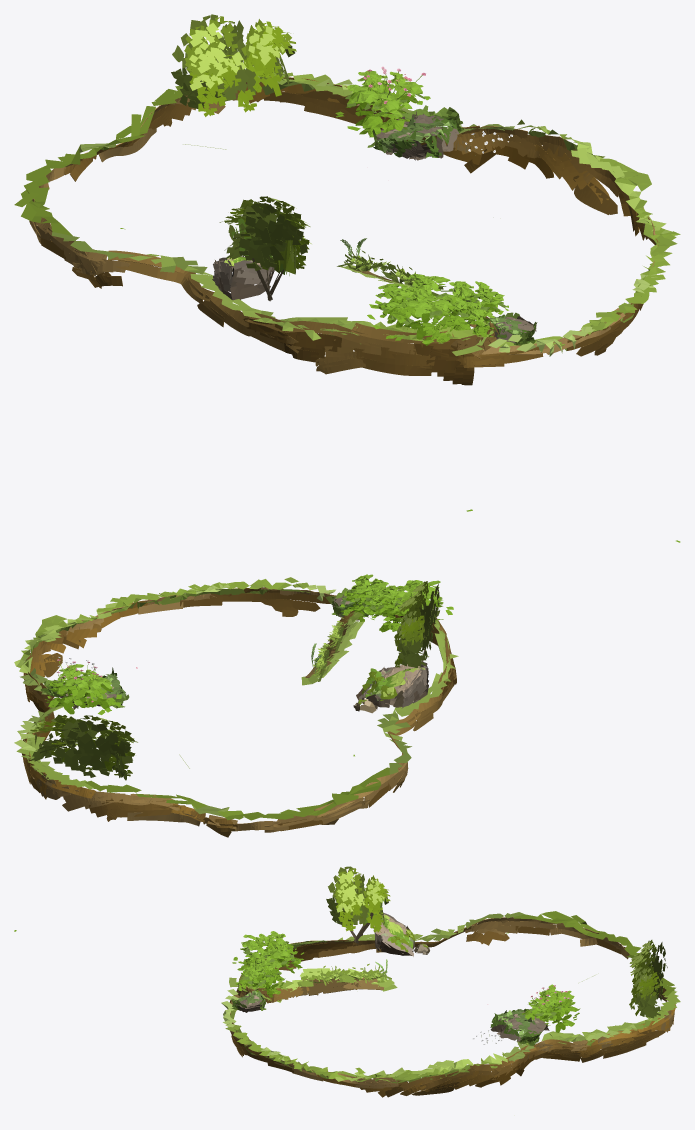
The model's file is Things_for_world.fbx.
The picture shows the model from 3 angles, top to bottom: view 1: azimuth 30°, elevation 25°; view 2: azimuth 150°, elevation 25°; view 3: azimuth 270°, elevation 25°; orthographic projection. The views are drawn at different scales.
Visible parts, largest first — view 1: earth, grass trim, bush 4, mini tree, Bush 1, Bush 2, Rock 5, Bush 3, Pointy rock., small rock, Mini tree.; view 2: earth, grass trim, bush 4, Pointy rock., mini tree, Bush 2, Bush 1, Bush 3, Rock 5; view 3: earth, grass trim, mini tree, bush 4, Bush 1, Bush 2, Rock 5, Pointy rock., Bush 3, small rock.
Boxes of the visible parts, bbox=[...] form: earth: bbox=[29, 77, 659, 385]; grass trim: bbox=[14, 72, 680, 356]; bush 4: bbox=[171, 14, 296, 116]; mini tree: bbox=[219, 196, 311, 274]; Bush 1: bbox=[367, 274, 472, 511]; Bush 2: bbox=[120, 71, 430, 229]; Rock 5: bbox=[367, 105, 463, 160]; Bush 3: bbox=[431, 281, 508, 337]; Pointy rock.: bbox=[212, 256, 274, 300]; small rock: bbox=[487, 312, 537, 345]; Mini tree.: bbox=[231, 211, 295, 301]; earth: bbox=[22, 587, 456, 837]; grass trim: bbox=[14, 577, 458, 820]; bush 4: bbox=[30, 714, 137, 780]; Pointy rock.: bbox=[353, 661, 428, 713]; mini tree: bbox=[394, 581, 439, 667]; Bush 2: bbox=[45, 664, 354, 756]; Bush 1: bbox=[360, 540, 680, 632]; Bush 3: bbox=[340, 574, 398, 621]; Rock 5: bbox=[40, 667, 129, 709]; earth: bbox=[229, 917, 675, 1097]; grass trim: bbox=[221, 911, 680, 1083]; mini tree: bbox=[326, 866, 390, 932]; bush 4: bbox=[629, 940, 667, 1018]; Bush 1: bbox=[14, 930, 303, 973]; Bush 2: bbox=[506, 932, 580, 1032]; Rock 5: bbox=[490, 1008, 549, 1045]; Pointy rock.: bbox=[374, 913, 429, 956]; Bush 3: bbox=[235, 956, 285, 997]; small rock: bbox=[231, 989, 266, 1012].
Bounding box in the file's own units: 3277 × 1203 × 5499.
